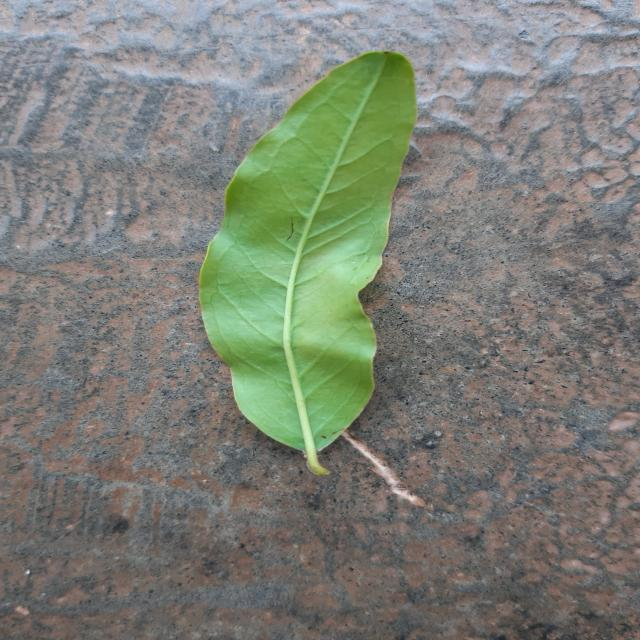pomgranate: (200, 51, 416, 474)
